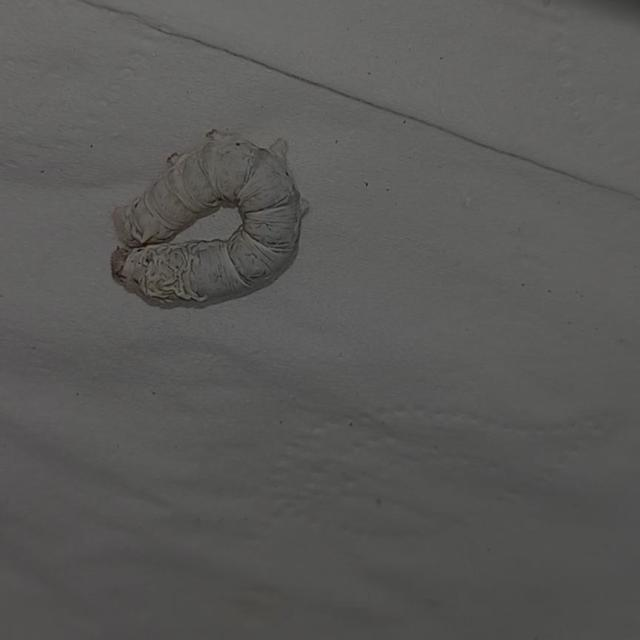Healthy: (93, 118, 326, 315)
